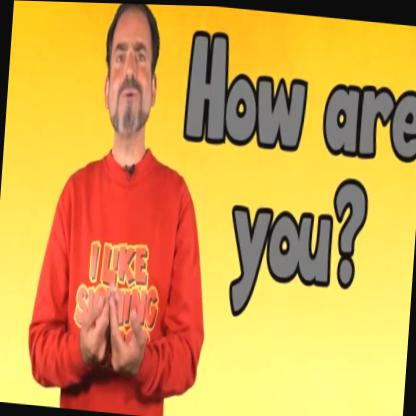HowAreYou: (67, 262, 156, 375)
